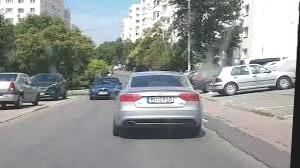License_Plate: (147, 96, 175, 102)
